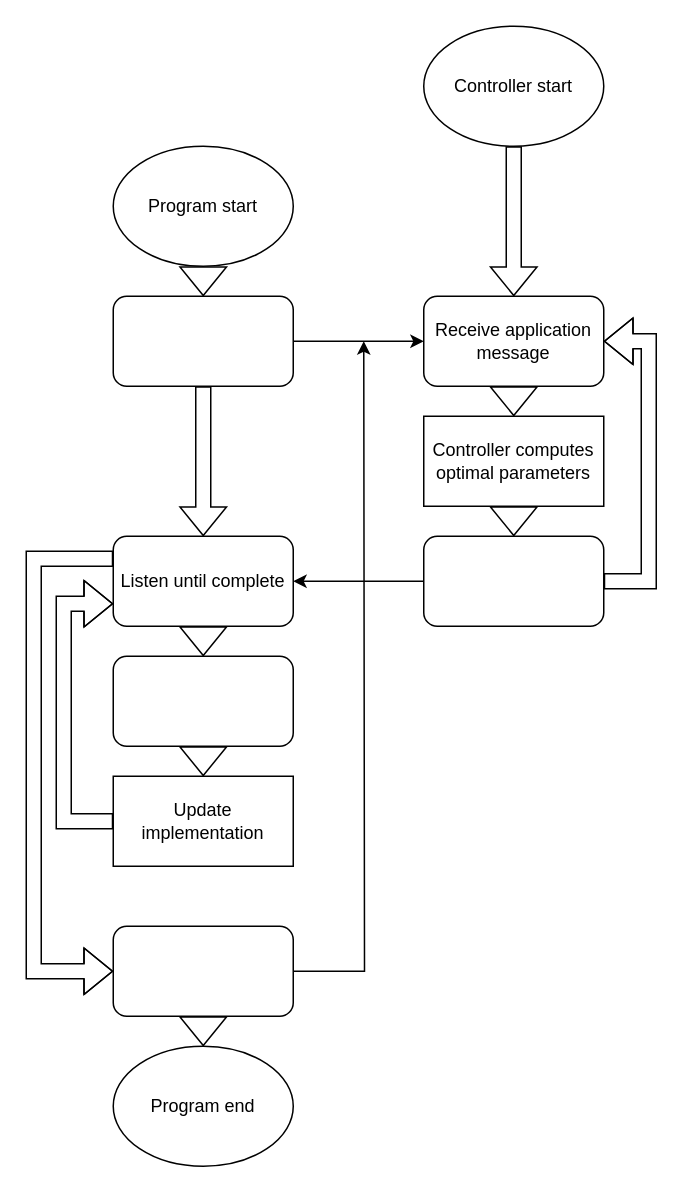
Image size: 683x1193. Some labels were removed from this diagram. The centre of each missing label's shape, as x and y in pixels:
"Deregister with controller" goes at point (202, 970).
"Receive new parameters" goes at point (202, 700).
"Register with controller" goes at point (202, 340).
"Send all applications new parameters" goes at point (513, 580).
